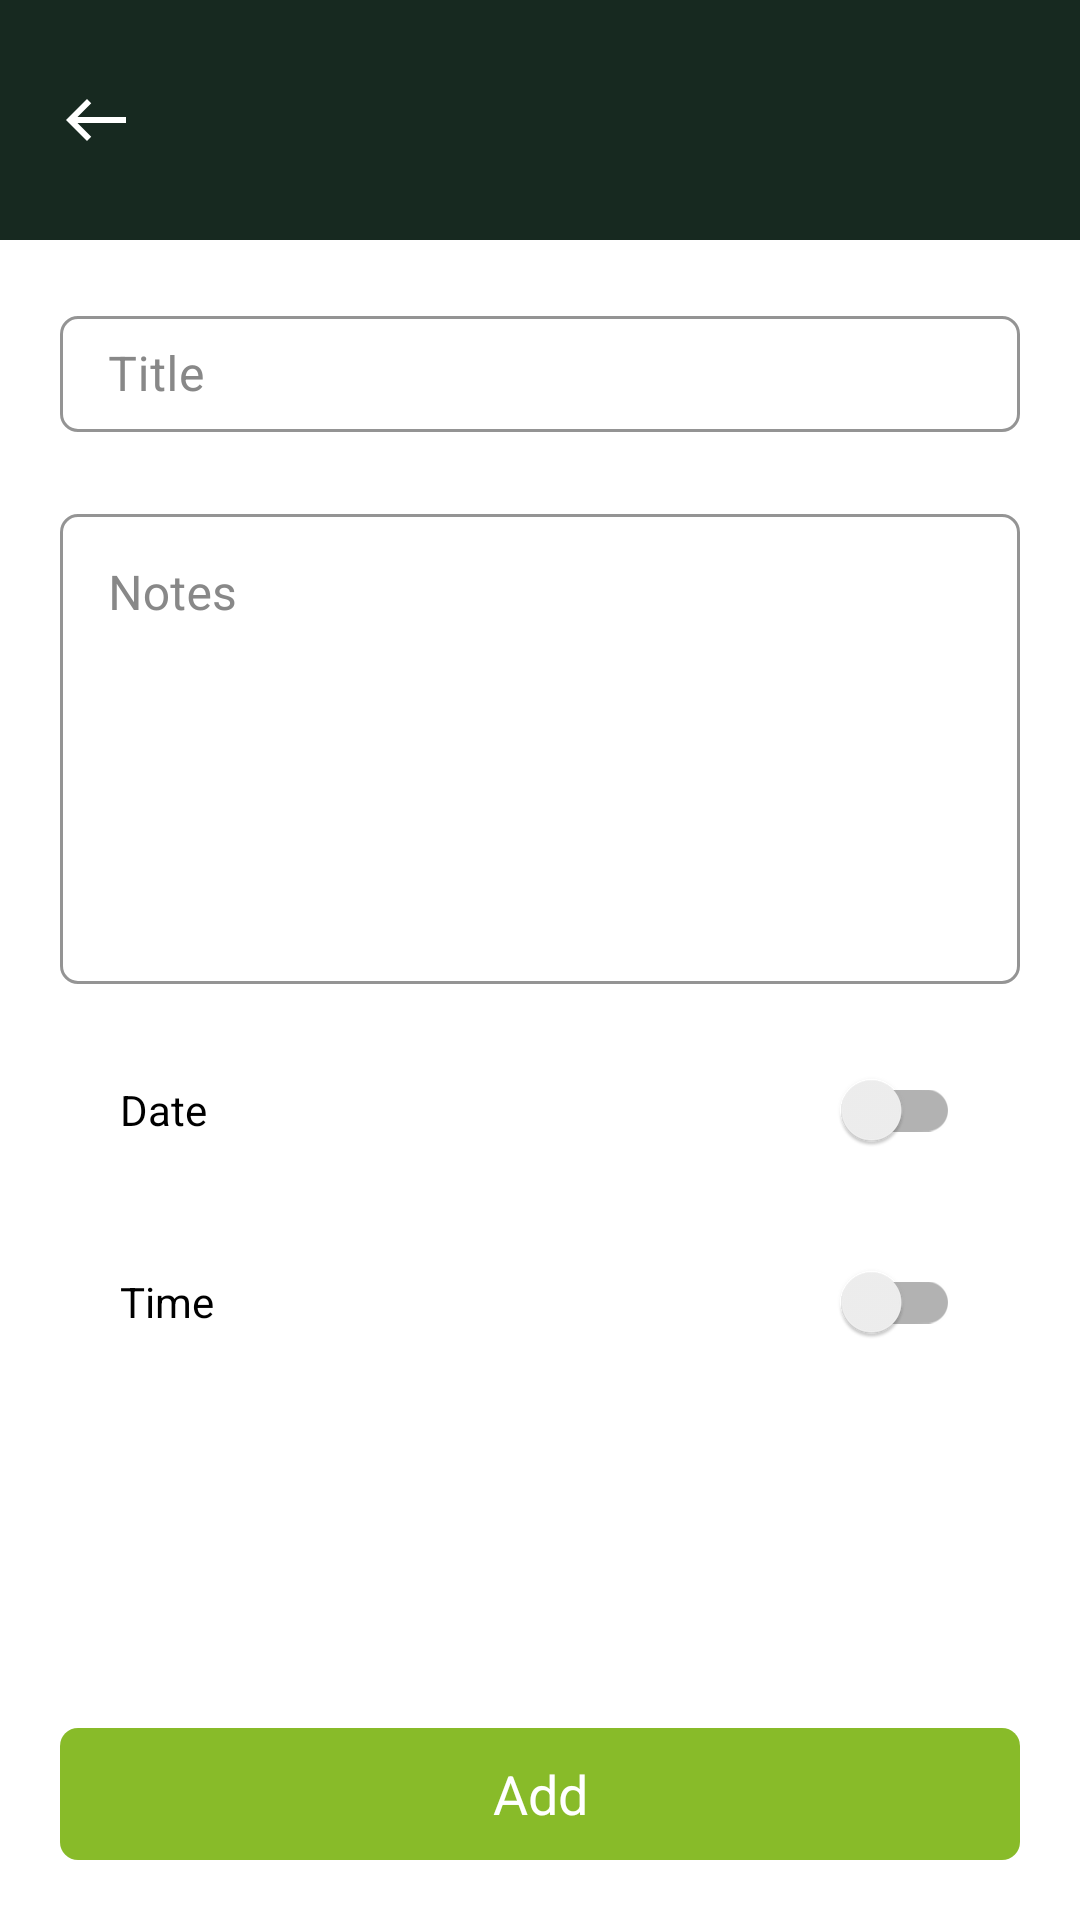

Icon click points for this 1080 x 1920 phone screenshot, format (x,y):
arrow back: (96,120)
